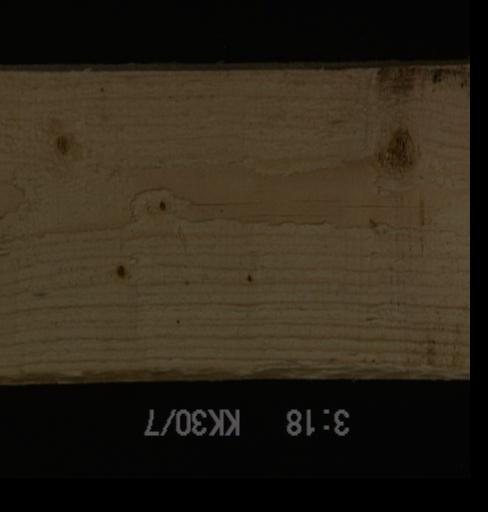dry_knot: (111, 258, 131, 284), (154, 195, 169, 216)
sound_knot: (373, 116, 420, 179), (50, 129, 72, 157)
split: (176, 208, 468, 237)
